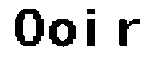0: (13, 6, 46, 50)
i: (85, 6, 100, 50)
o: (49, 18, 79, 50)
r: (116, 12, 140, 52)
